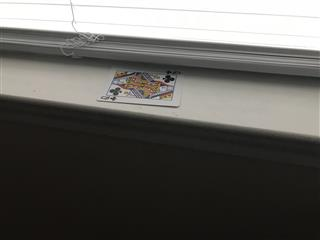QueenOfClubs: (95, 65, 185, 107)
